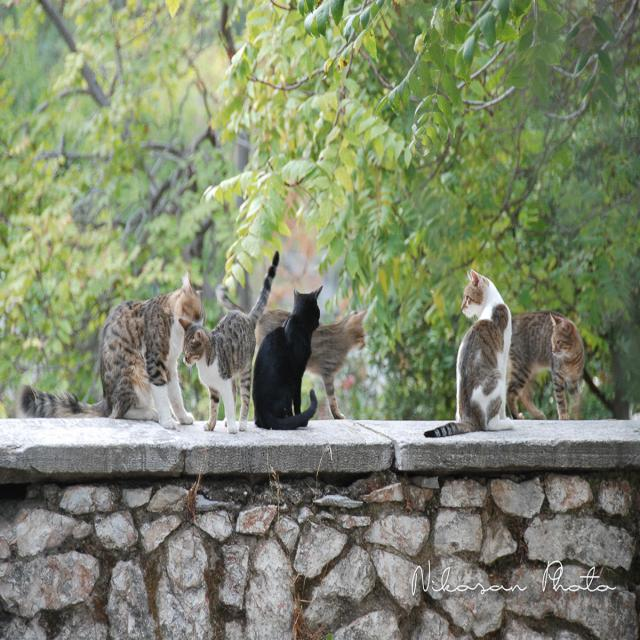cat: (19, 273, 205, 428), (180, 252, 279, 433), (425, 271, 514, 437), (252, 288, 321, 430), (506, 310, 585, 420)
